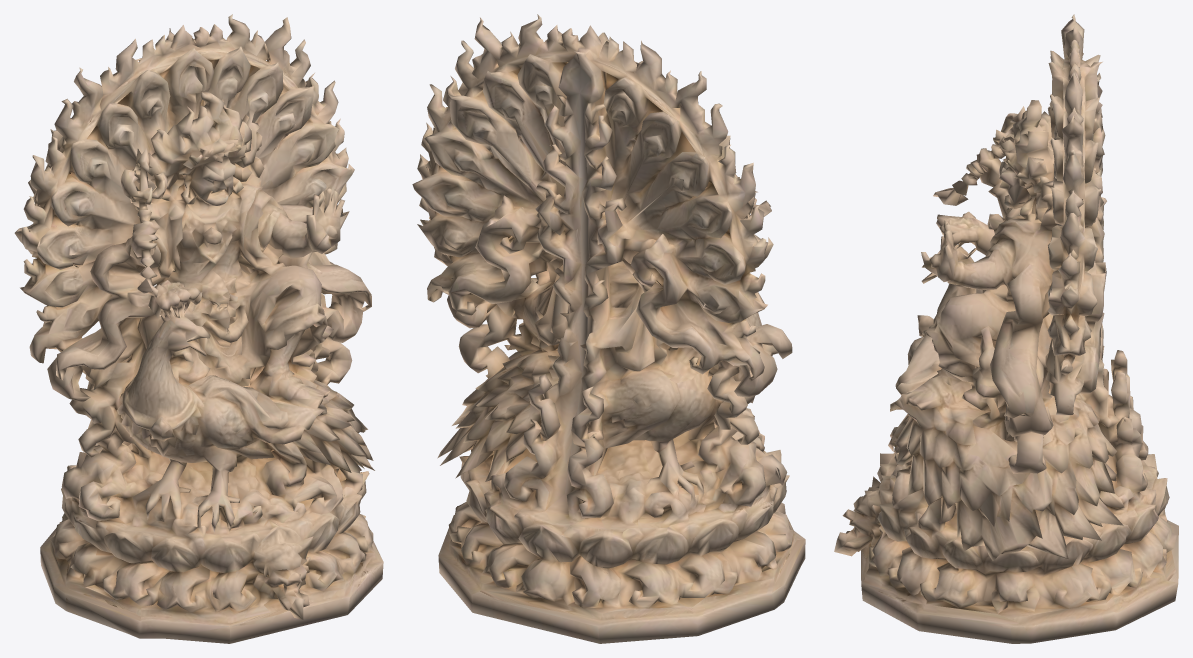
The picture shows the model from 3 angles, left to right: view 1: azimuth 30°, elevation 25°; view 2: azimuth 150°, elevation 25°; view 3: azimuth 270°, elevation 25°; orthographic projection. The views are drawn at different scales.
Parts seen in each view (by area): view 1: owner-collection20-02; view 2: owner-collection20-02; view 3: owner-collection20-02.
Boxes of the visible parts, x1,y1,x2,y2 form: owner-collection20-02: (14,14,383,643); owner-collection20-02: (412,14,805,643); owner-collection20-02: (834,14,1178,643).
Bounding box in the file's own units: 0.6479 × 0.9998 × 0.5949.
1 material, 1 textured.
